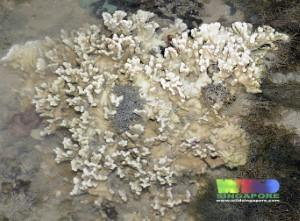bleached_corals: (0, 10, 288, 221)
